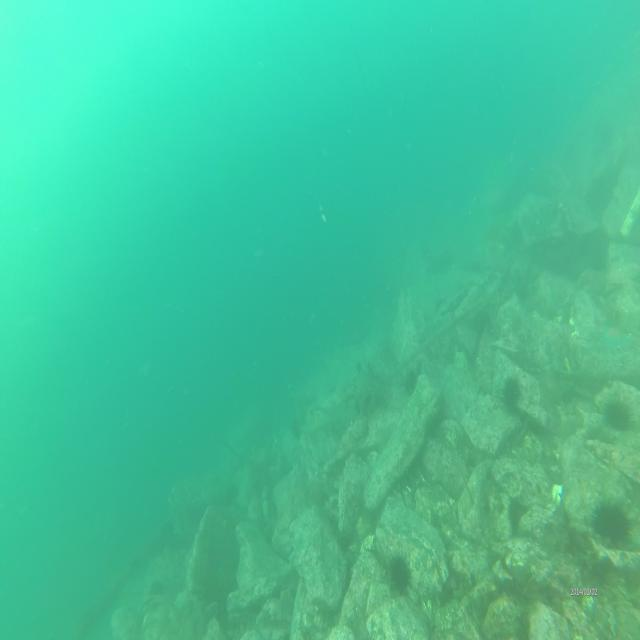echinus: (595, 498, 631, 552), (385, 549, 413, 599), (604, 397, 632, 433), (502, 372, 523, 413)
starfish: (596, 319, 632, 356)
